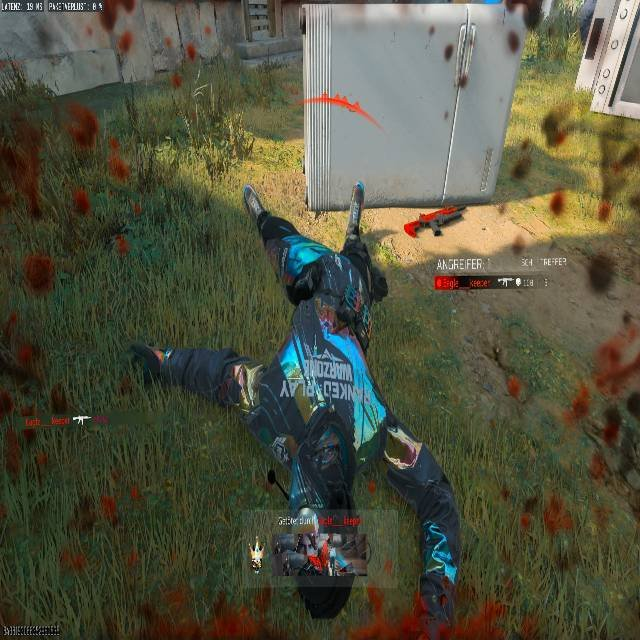player: (417, 526, 459, 631)
